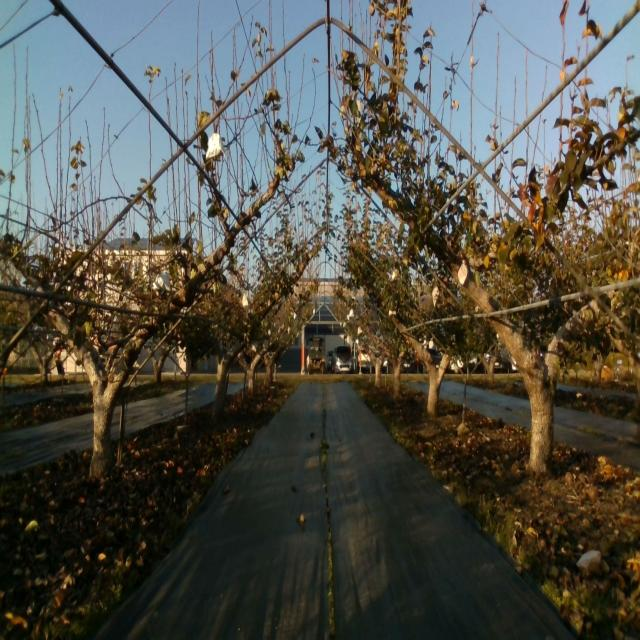pearbags: (206, 133, 226, 159), (152, 268, 171, 292), (458, 260, 469, 288)
